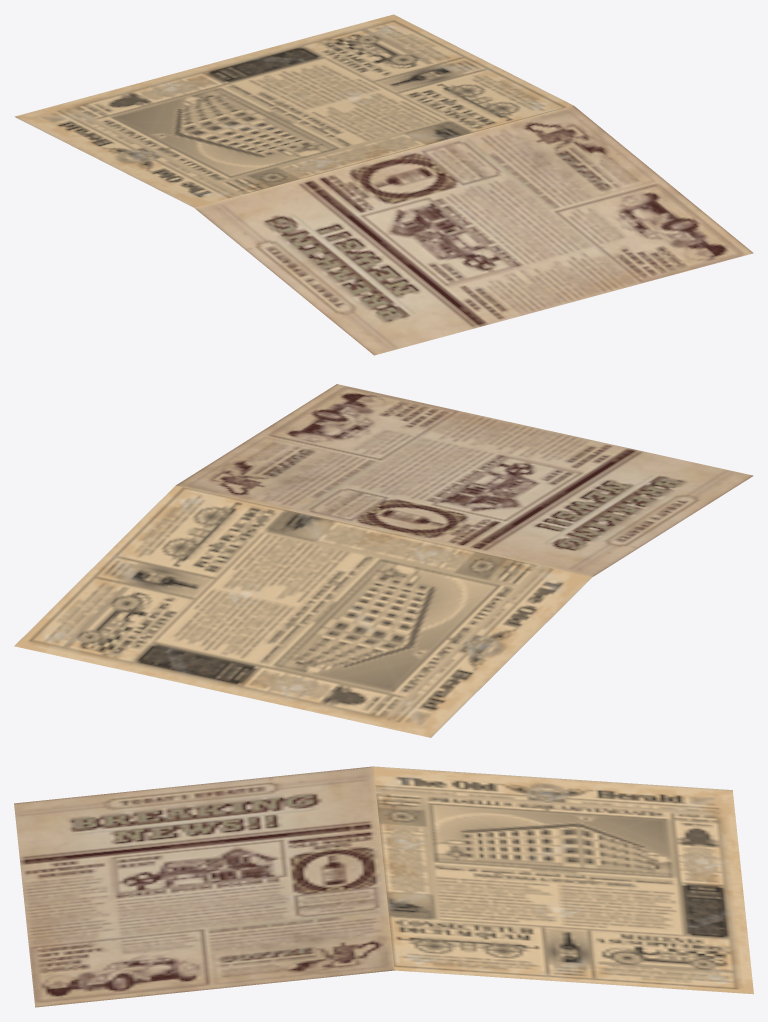
The model's file is periodico_008.fbx.
3 views of the same model, one above another, from view 1: azimuth 30°, elevation 25°; view 2: azimuth 150°, elevation 25°; view 3: azimuth 270°, elevation 25° (orthographic). The views are drawn at different scales.
Visible parts, largest first — view 1: periodico.008; view 2: periodico.008; view 3: periodico.008.
Boxes of the visible parts, x1,y1,x2,y2 form: periodico.008: (14,14,753,355); periodico.008: (14,384,753,737); periodico.008: (14,766,753,1007).
Size of the model in its own units: 75.41 by 4.91 by 108.
